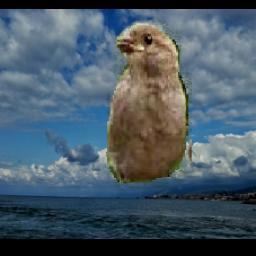Sparrow: (106, 21, 191, 220)
